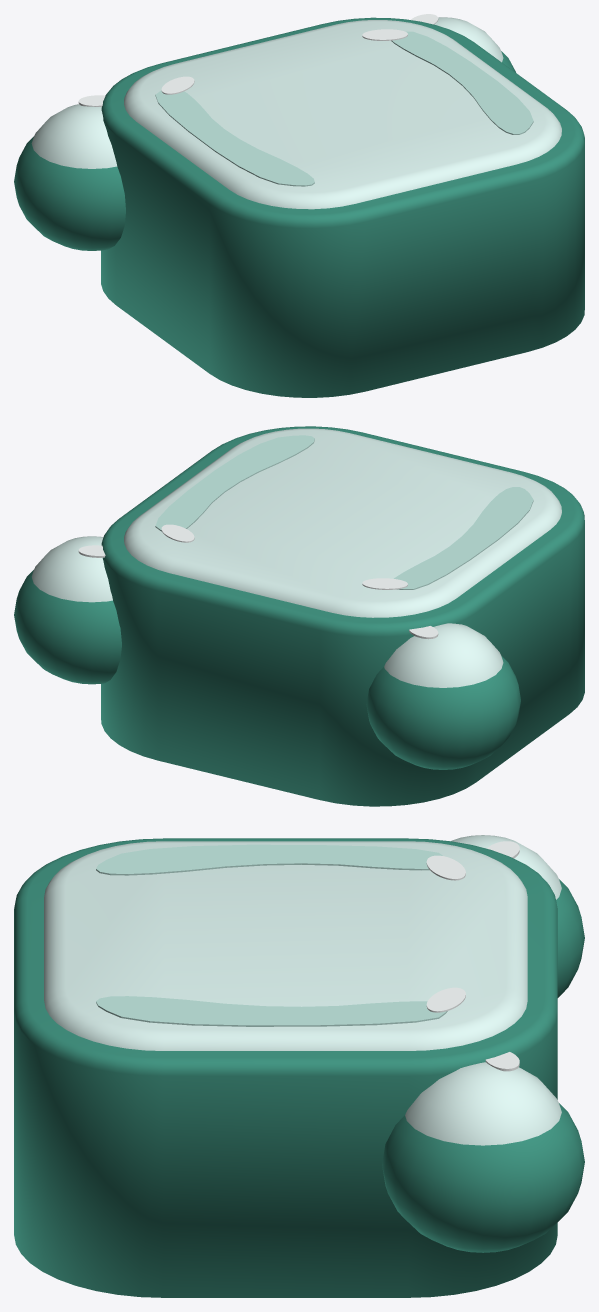
The model's file is body_basico_gelo.fbx.
3 views of the same model, one above another, from view 1: azimuth 30°, elevation 25°; view 2: azimuth 150°, elevation 25°; view 3: azimuth 270°, elevation 25° (orthographic). The views are drawn at different scales.
Visible parts, largest first — view 1: body_basico_gelo_corpo, body_basico_gelo_mao_esq, body_basico_gelo_mao; view 2: body_basico_gelo_corpo, body_basico_gelo_mao_esq, body_basico_gelo_mao; view 3: body_basico_gelo_corpo, body_basico_gelo_mao, body_basico_gelo_mao_esq.
Part boxes in pixels (box(x1,y1,x2,y2)): body_basico_gelo_corpo: box(101, 17, 584, 397); body_basico_gelo_mao_esq: box(14, 95, 125, 250); body_basico_gelo_mao: box(411, 14, 515, 72); body_basico_gelo_corpo: box(101, 426, 584, 806); body_basico_gelo_mao_esq: box(366, 623, 520, 769); body_basico_gelo_mao: box(14, 536, 121, 684); body_basico_gelo_corpo: box(14, 838, 557, 1297); body_basico_gelo_mao: box(382, 1052, 584, 1252); body_basico_gelo_mao_esq: box(451, 835, 584, 997).
Bounding box in the file's own units: 5.4 × 2.03 × 4.2.
Materials: 1 (1 with a texture image).
